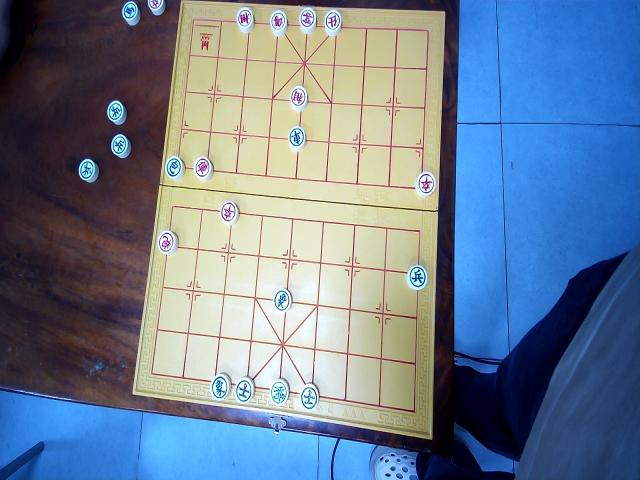piece: (414, 171, 436, 198), (406, 263, 428, 290), (234, 375, 254, 404), (156, 229, 178, 255), (210, 372, 230, 400), (270, 378, 290, 406), (299, 383, 319, 410), (78, 157, 98, 184), (193, 154, 213, 180), (106, 100, 126, 126), (323, 9, 342, 36), (218, 200, 238, 225), (165, 155, 185, 180), (110, 133, 130, 158), (299, 7, 317, 34), (269, 9, 287, 36), (288, 125, 306, 152), (290, 85, 308, 111), (236, 7, 254, 33), (272, 287, 290, 312), (122, 1, 140, 26), (146, 0, 166, 16)
